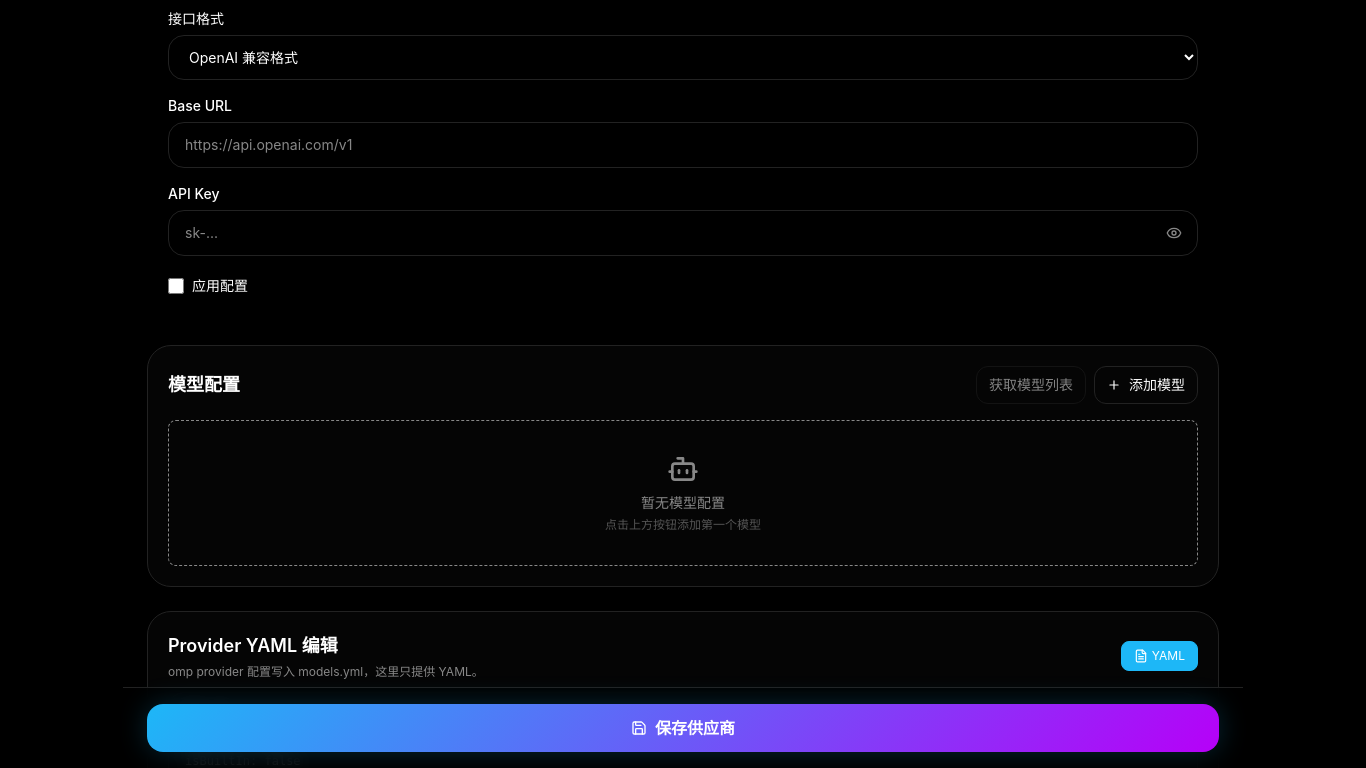
Test case: ProviderEditor › opens model editor on add model click
The width and height of the screenshot is (1366, 768).
(page scrolled)
Click the button with test id "add-model-btn" at x=1146, y=384, box [1094, 366, 1198, 404]
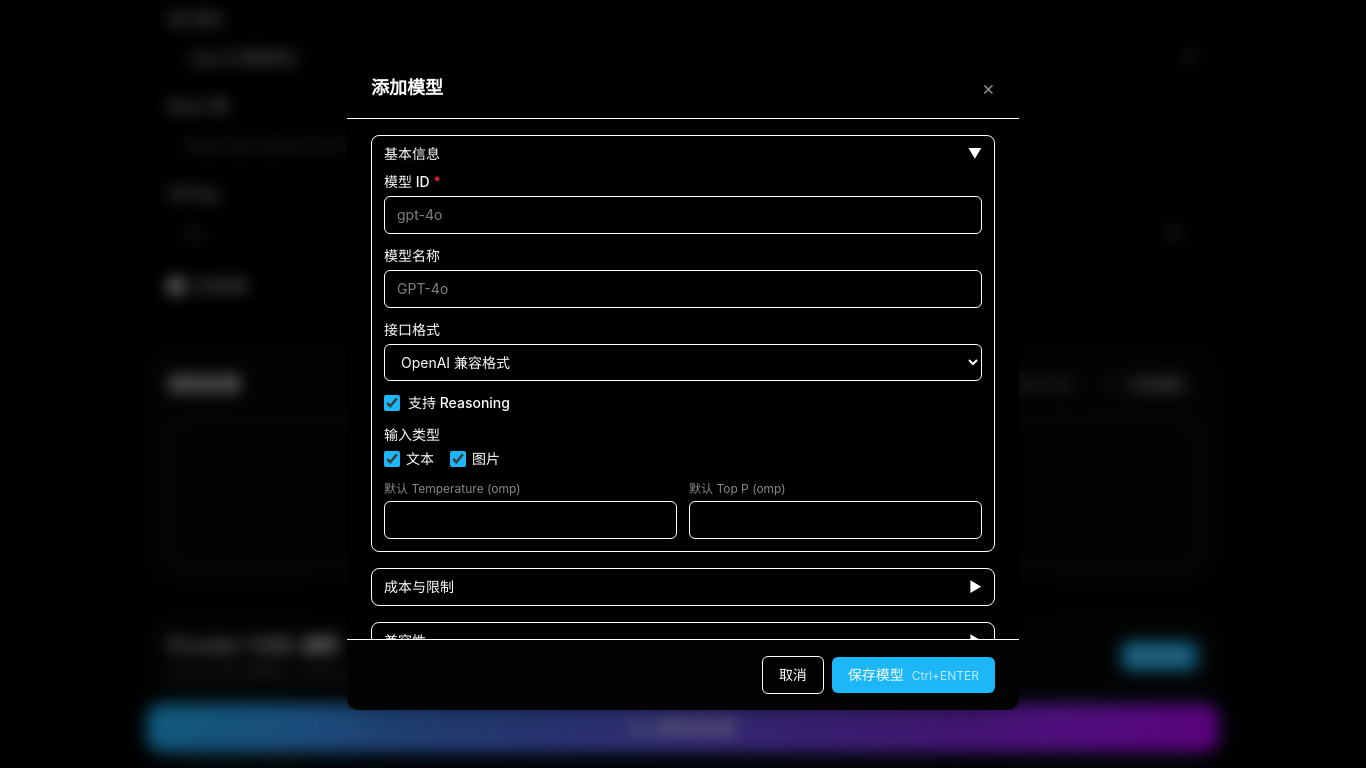
Expected: the element with test id "model-editor-dialog" is shown
